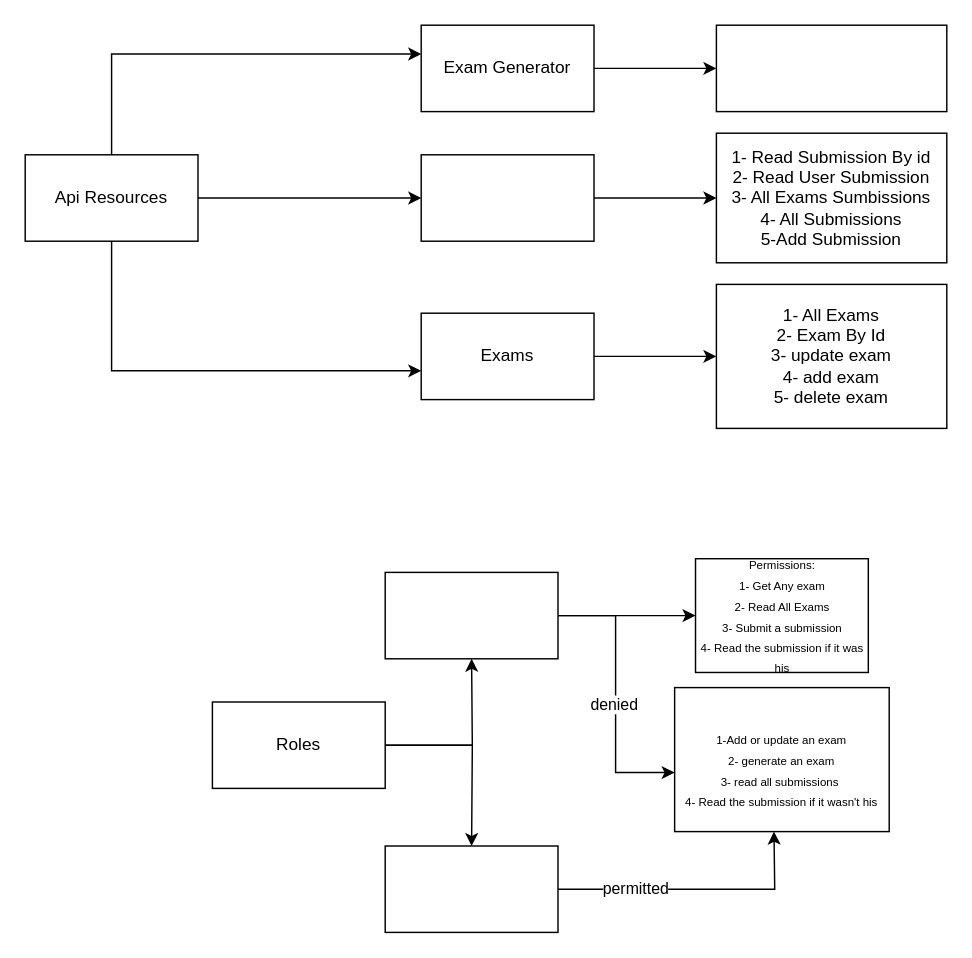
This 972x958 diagram has some shape labels left out. Each missing label, with the centre of its shape:
"Admin" belongs at point 471,888.
"Generate" belongs at point 831,68.
"Submissions" belongs at point 507,197.
"User" belongs at point 471,615.
